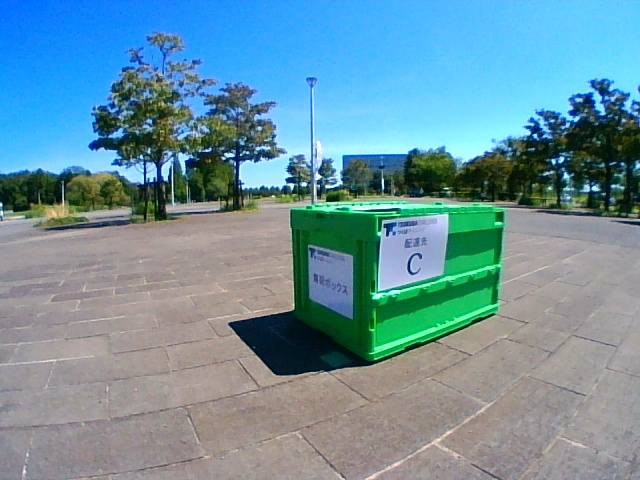green_box: (290, 202, 505, 360)
tag_c: (392, 232, 435, 277)
